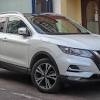Nissan: (1, 10, 100, 90)
